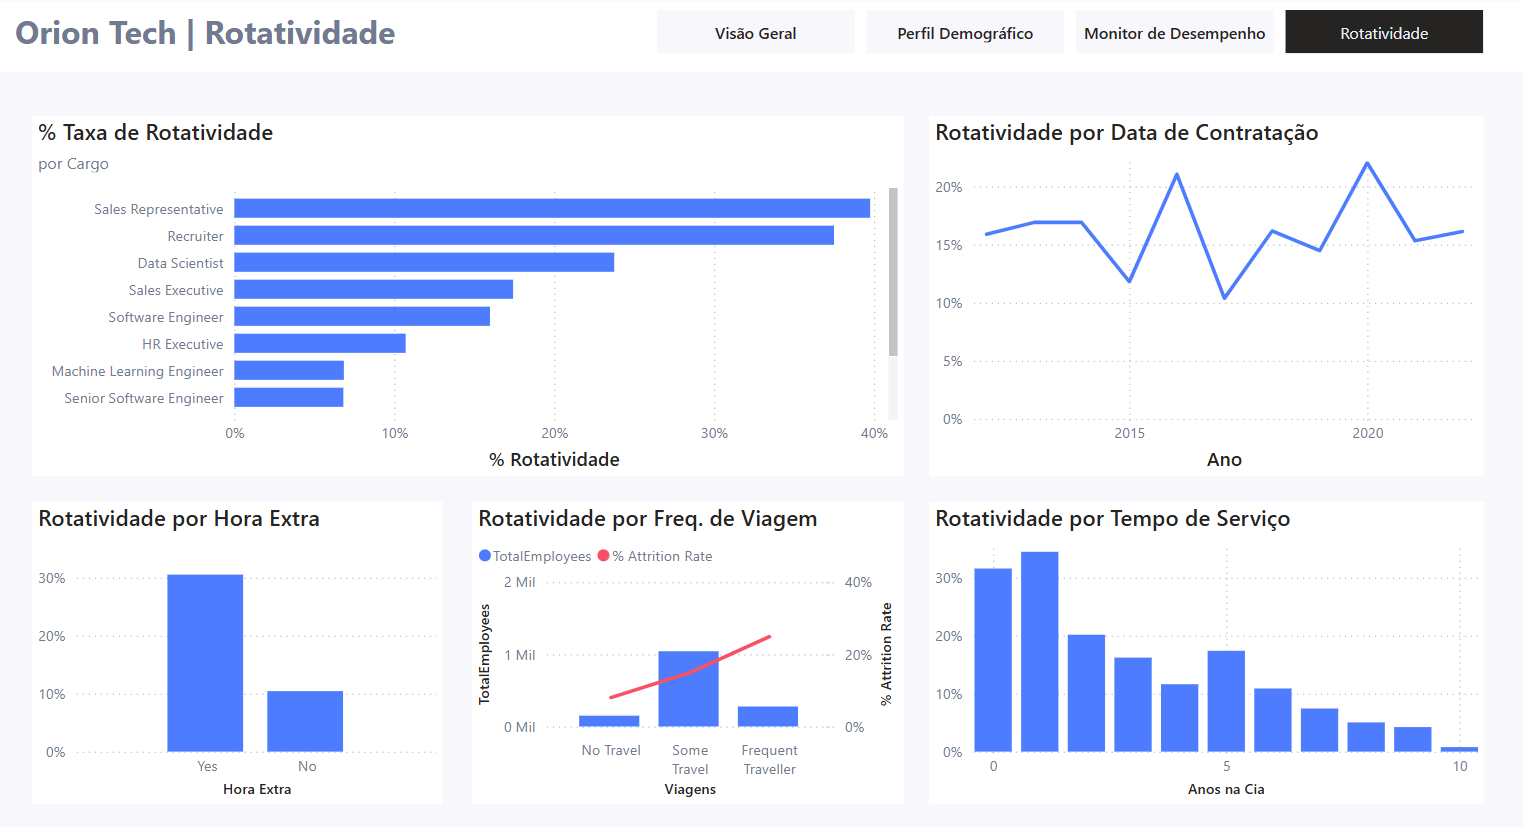

Layout of this report page (visuals, bound fields, positions):
{"tool":"powerbi","page":{"name":"Rotatividade","canvas":[1280,720],"ordinal":3},"visuals":[{"type":"clusteredBarChart","title":"% Taxa de Rotatividade","fields":{"Category":["DimEmployee.JobRole"],"Y":["_Measures.% Attrition Rate"]},"box":[29.3,99,728.3,301],"z":1000},{"type":"lineChart","title":"Rotatividade por Data de Contratação","fields":{"Y":["_Measures.% Attrition Rate Date"],"Category":["DimDate.Year"]},"box":[778.8,99,463.6,301],"z":2000},{"type":"lineStackedColumnComboChart","title":"Rotatividade por Freq. de Viagem","fields":{"Category":["DimEmployee.BusinessTravel"],"Y2":["_Measures.% Attrition Rate"],"Y":["_Measures.TotalEmployees"]},"box":[397,422.2,360.6,251.5],"z":3000},{"type":"clusteredColumnChart","title":"Rotatividade por Hora Extra","fields":{"Category":["DimEmployee.OverTime"],"Y":["_Measures.% Attrition Rate"]},"box":[29.3,422.2,343.4,251.5],"z":4000},{"type":"clusteredColumnChart","title":"Rotatividade por Tempo de Serviço","fields":{"Category":["DimEmployee.YearsAtCompany"],"Y":["_Measures.% Attrition Rate"]},"box":[778.8,422.2,463.6,251.5],"z":5000},{"type":"shape","box":[0,0,1279.8,62.6],"z":6000},{"type":"pageNavigator","box":[551.5,11.1,690.9,36.4],"z":7000},{"type":"textbox","box":[97,5.1,258.6,51.5],"z":8000},{"type":"textbox","box":[10.1,5.1,393.9,51.5],"z":9000}]}

Visuals, with their boxes on the page's 1280x720 design canvas (x1, y1, x2, y2). These are canvas units, not pixel positions in the 1523x827 screenshot, which may show the page scaled, cropped or inside an application window:
"% Taxa de Rotatividade" clusteredBarChart: BBox(29, 99, 758, 400)
"Rotatividade por Data de Contratação" lineChart: BBox(779, 99, 1242, 400)
"Rotatividade por Freq. de Viagem" lineStackedColumnComboChart: BBox(397, 422, 758, 674)
"Rotatividade por Hora Extra" clusteredColumnChart: BBox(29, 422, 373, 674)
"Rotatividade por Tempo de Serviço" clusteredColumnChart: BBox(779, 422, 1242, 674)
shape: BBox(0, 0, 1280, 63)
pageNavigator: BBox(552, 11, 1242, 48)
textbox: BBox(97, 5, 356, 57)
textbox: BBox(10, 5, 404, 57)
